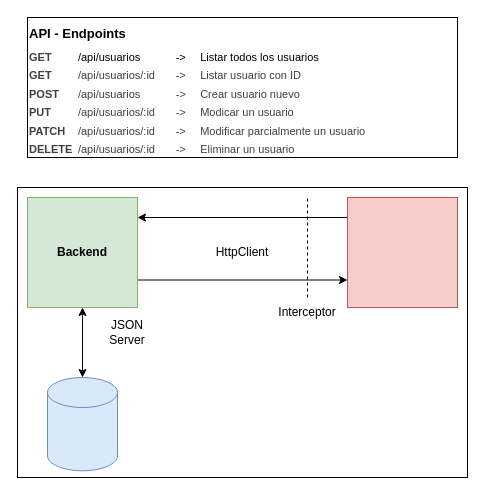
Some shapes in this 485 by 495 pixel diagram are drawn without their labels. The centre of each missing label's shape, as x and y in pixels:
"Database" belongs at [82,423].
"Frontend" belongs at [402,252].
